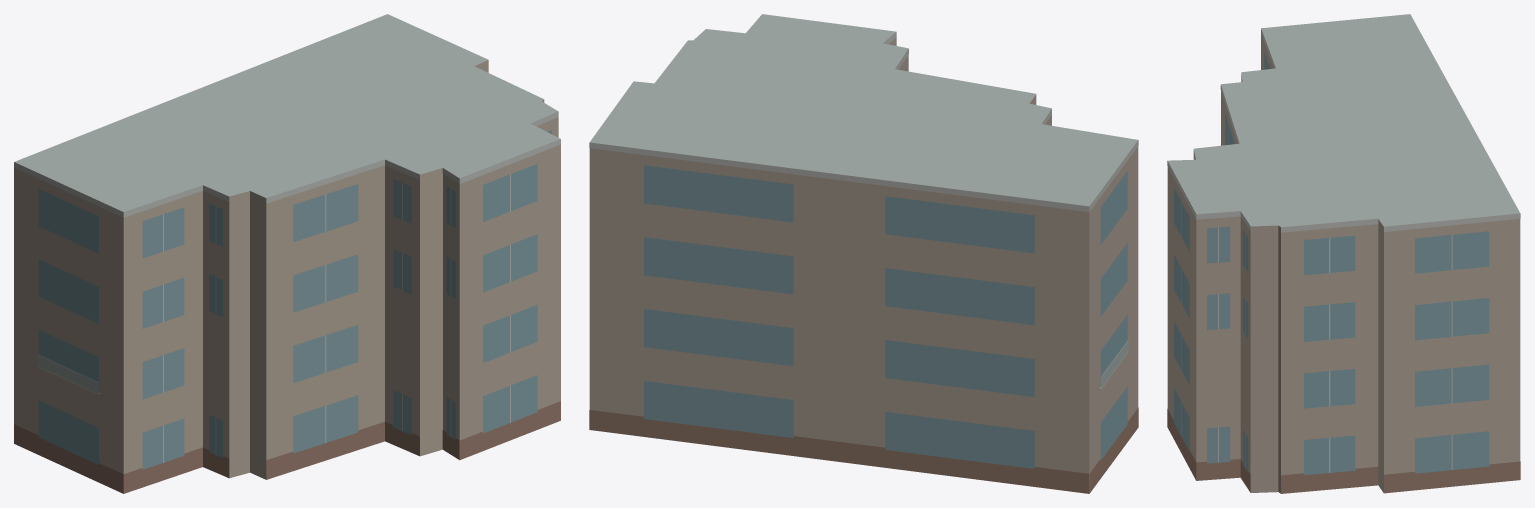
Rendered from survey-upis-32818538.glb.
The picture shows the model from 3 angles, left to right: view 1: azimuth 30°, elevation 25°; view 2: azimuth 150°, elevation 25°; view 3: azimuth 270°, elevation 25°; orthographic projection. The views are drawn at different scales.
Visible parts, largest first — view 1: survey-upis-32818538.tmp; view 2: survey-upis-32818538.tmp; view 3: survey-upis-32818538.tmp.
Boxes of the visible parts, <box> form: survey-upis-32818538.tmp: <box>14,14,560,493</box>; survey-upis-32818538.tmp: <box>589,14,1138,493</box>; survey-upis-32818538.tmp: <box>1167,14,1520,493</box>.
Bounding box in the file's own units: 20.94 × 12.2 × 14.65.
